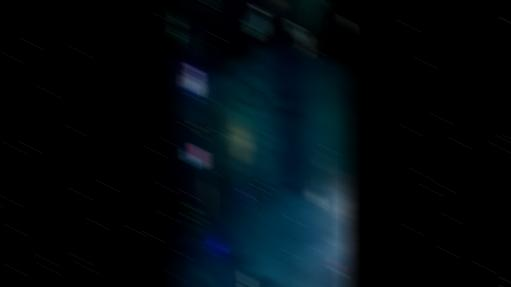Fish: (290, 22, 309, 57), (246, 7, 267, 37), (329, 170, 340, 195), (313, 173, 326, 192), (308, 190, 319, 207), (319, 150, 328, 169), (245, 197, 256, 212), (272, 195, 281, 212), (262, 201, 271, 218), (297, 273, 308, 286), (331, 261, 342, 274), (338, 272, 347, 286), (342, 17, 349, 30), (266, 215, 273, 227), (262, 116, 271, 125), (257, 104, 266, 111), (256, 92, 263, 101), (279, 91, 283, 106), (247, 84, 256, 90), (287, 185, 304, 188), (247, 101, 254, 108), (251, 86, 258, 93), (251, 195, 258, 202), (247, 196, 254, 203), (283, 110, 298, 113), (238, 96, 245, 102), (238, 88, 246, 93), (172, 274, 179, 279), (237, 108, 244, 113), (285, 196, 292, 201), (294, 203, 299, 208), (293, 191, 300, 194), (245, 100, 248, 106)
